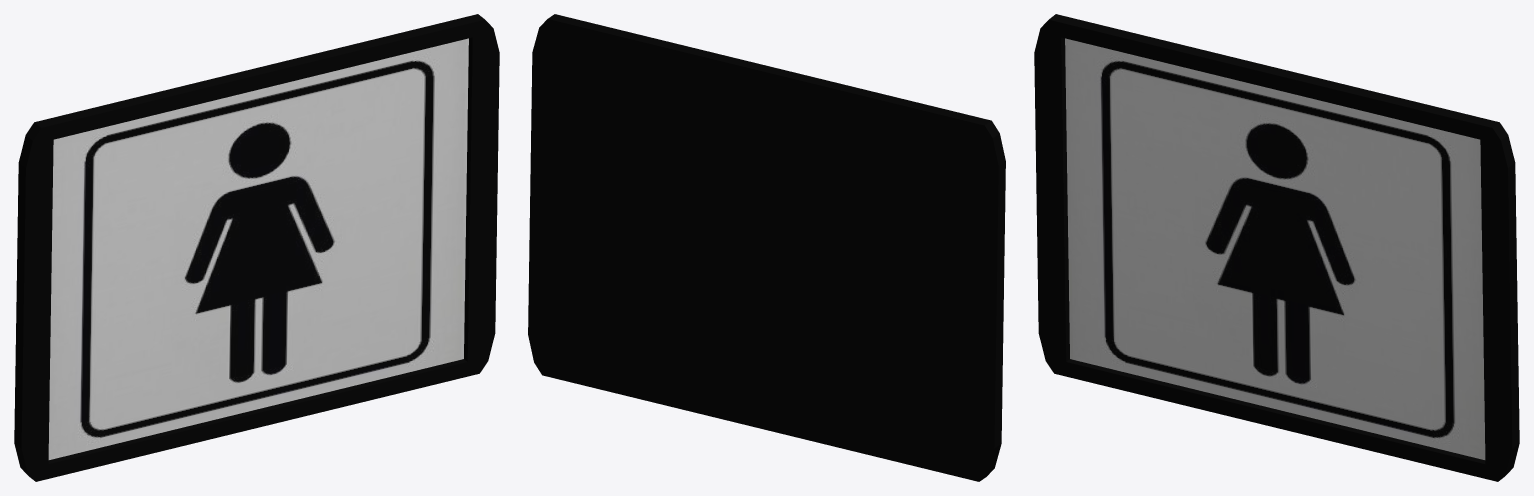
The model's file is poster_baño_mujer.fbx.
3 views of the same model, side by side, from view 1: azimuth 30°, elevation 25°; view 2: azimuth 150°, elevation 25°; view 3: azimuth 330°, elevation 25° (orthographic).
Visible parts, largest first — view 1: poster:Mesh2; view 2: poster:Mesh2; view 3: poster:Mesh2.
Boxes of the visible parts, left/top/right/bottom form: poster:Mesh2: left=14, top=14, right=499, bottom=481; poster:Mesh2: left=528, top=14, right=1005, bottom=481; poster:Mesh2: left=1034, top=14, right=1519, bottom=481.
Bounding box in the file's own units: 2.13 × 1.54 × 0.1.
2 materials, 1 textured.
